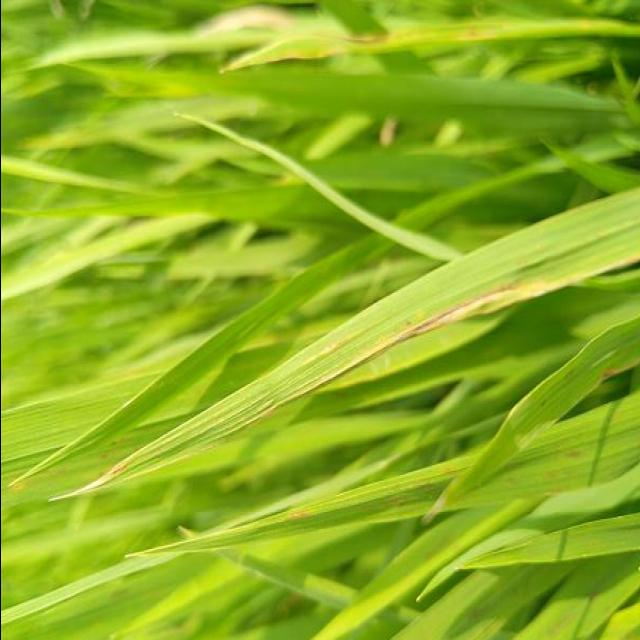Leaf Blight: (52, 183, 640, 501)
